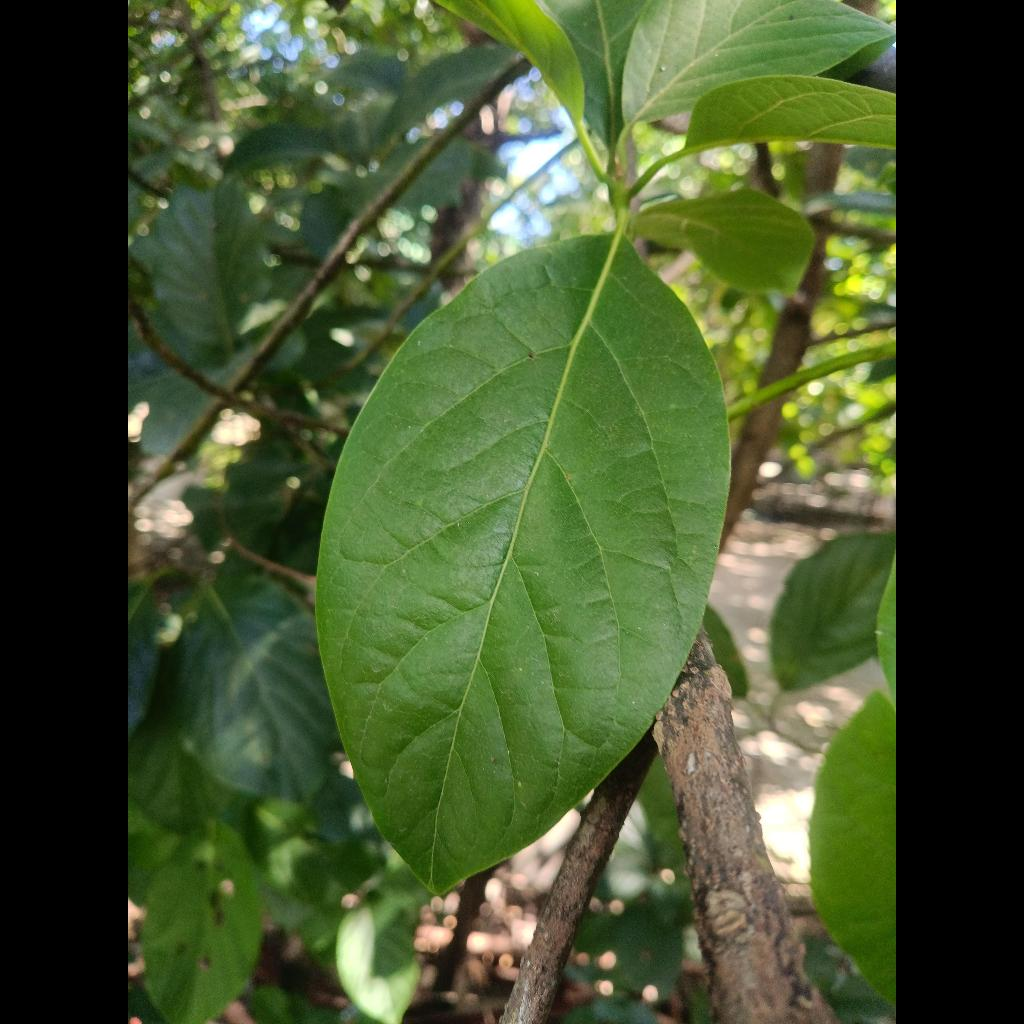Healthy: (317, 232, 729, 890)
